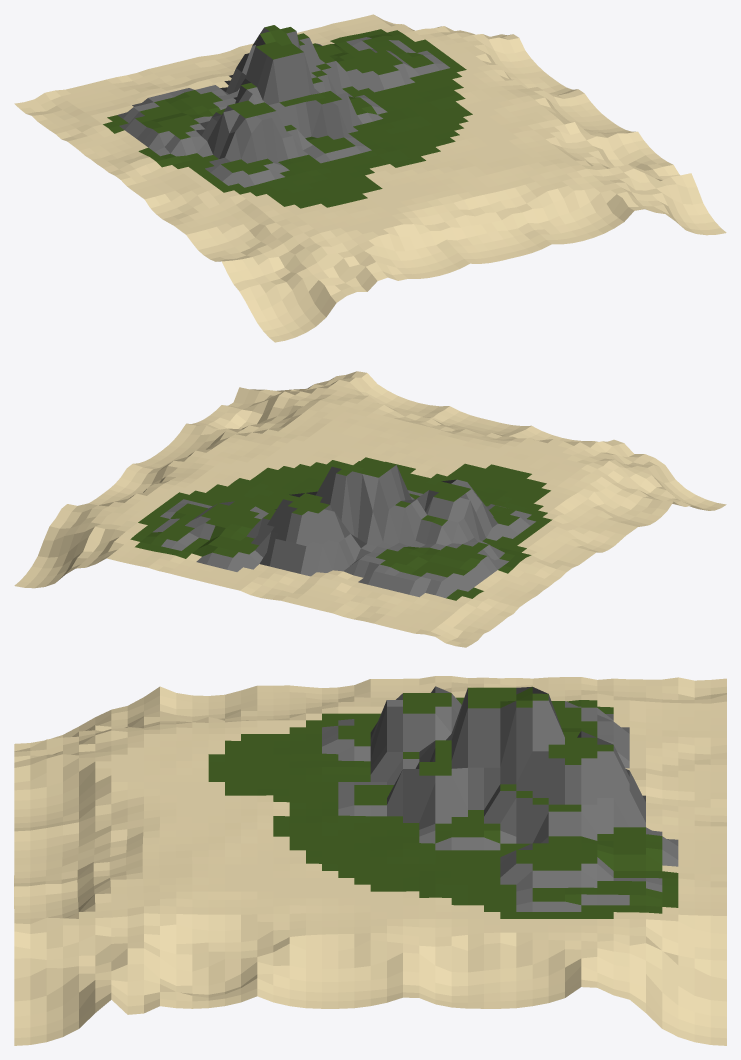
Rendered from island.fbx.
3 views of the same model, one above another, from view 1: azimuth 30°, elevation 25°; view 2: azimuth 150°, elevation 25°; view 3: azimuth 270°, elevation 25° (orthographic). The views are drawn at different scales.
Parts seen in each view (by area): view 1: Plane.002; view 2: Plane.002; view 3: Plane.002.
Part boxes in pixels (bbox=[...]): Plane.002: bbox=[14, 14, 726, 342]; Plane.002: bbox=[14, 371, 726, 647]; Plane.002: bbox=[14, 676, 726, 1045].
Size of the model in its own units: 46093 by 12444 by 46112.
